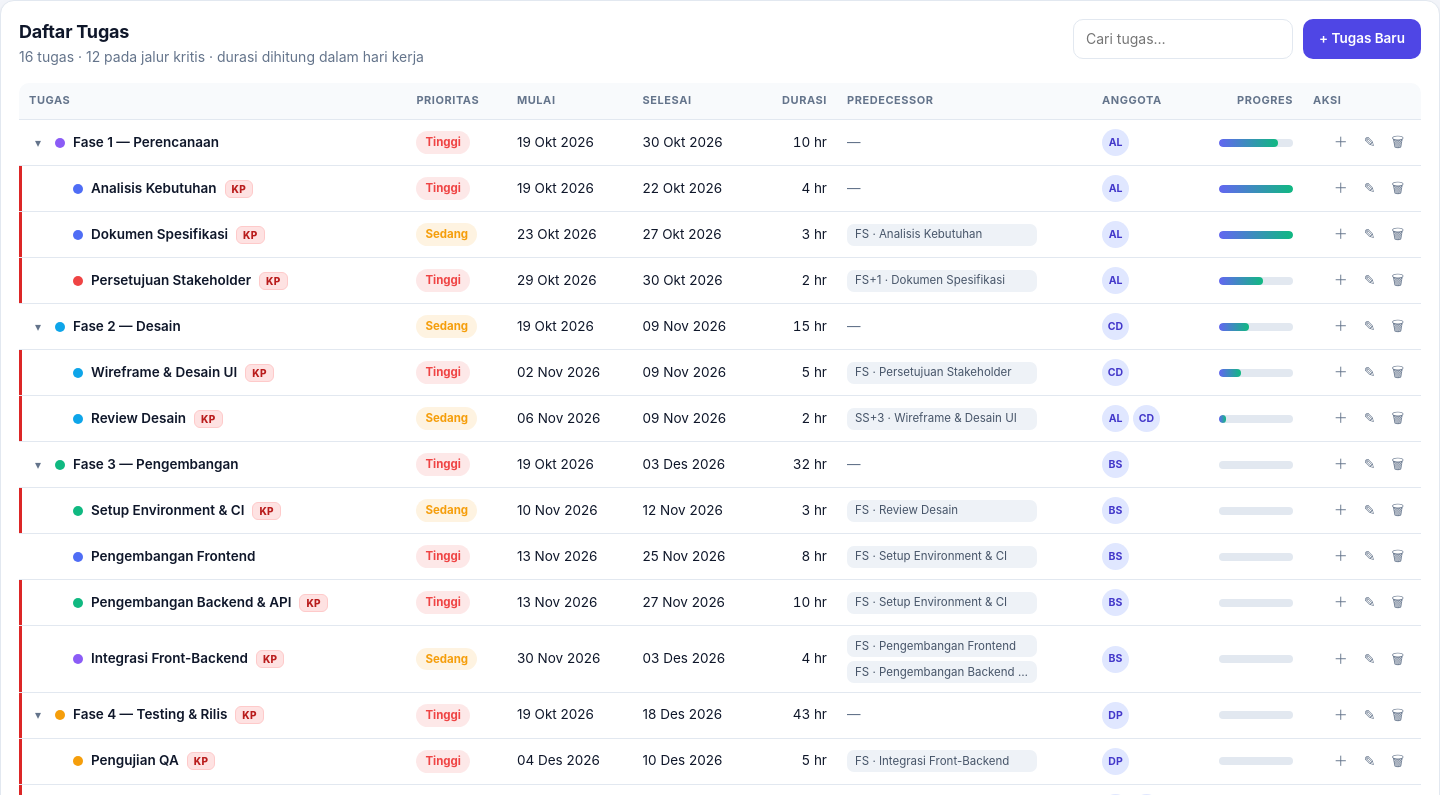
TaskList › menyaring tugas lewat pencarian
Type "Pengujian QA" into the search field labelled "Cari tugas" at (1183, 39), box [1073,19,1293,59]
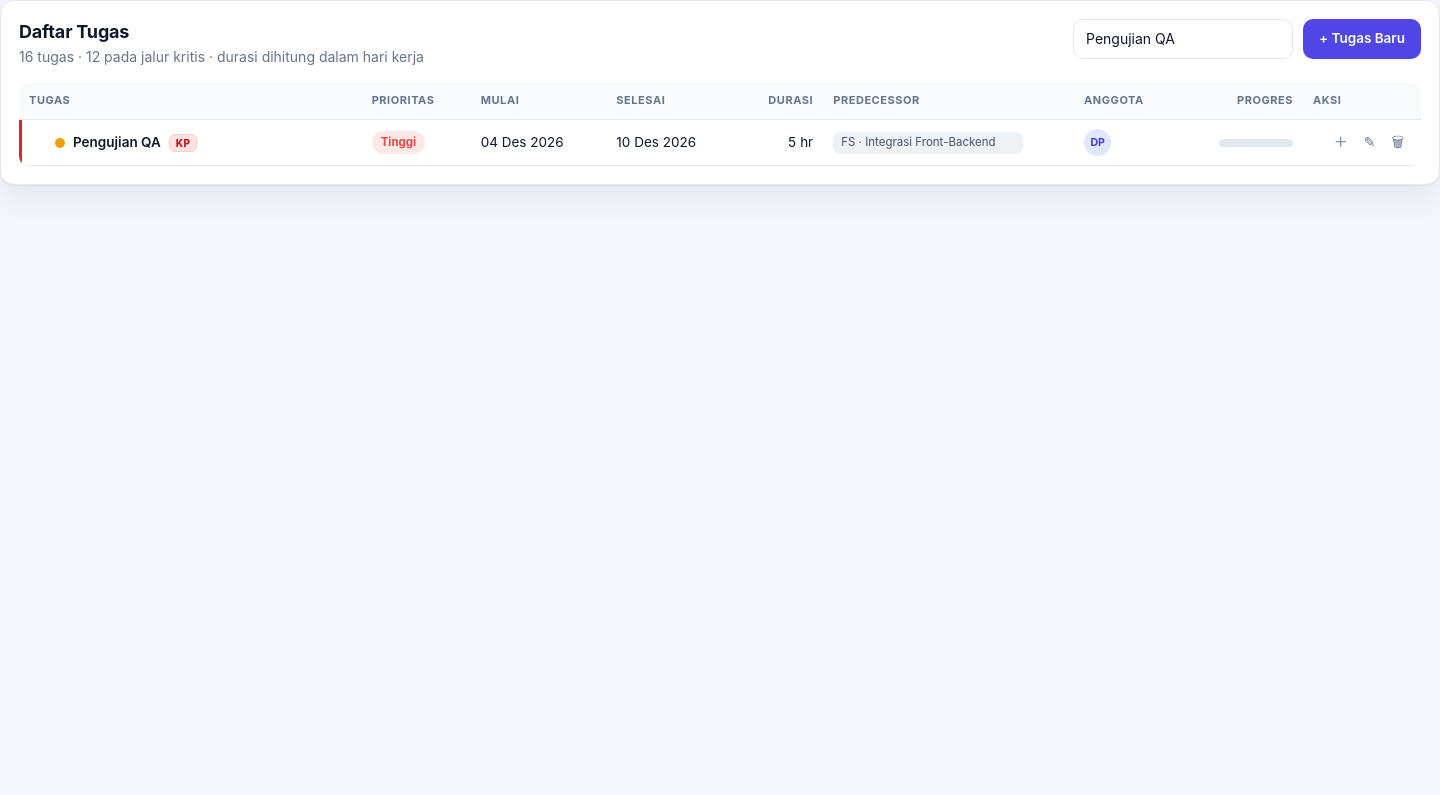
Expected: the text "Pengujian QA" is shown, [73,133,161,153]
Expected: the text "Wireframe & Desain UI" is gone
Replace the text in the search field named "Cari tugas" with "tidak-ada" at (1183, 39), box [1073,19,1293,59]
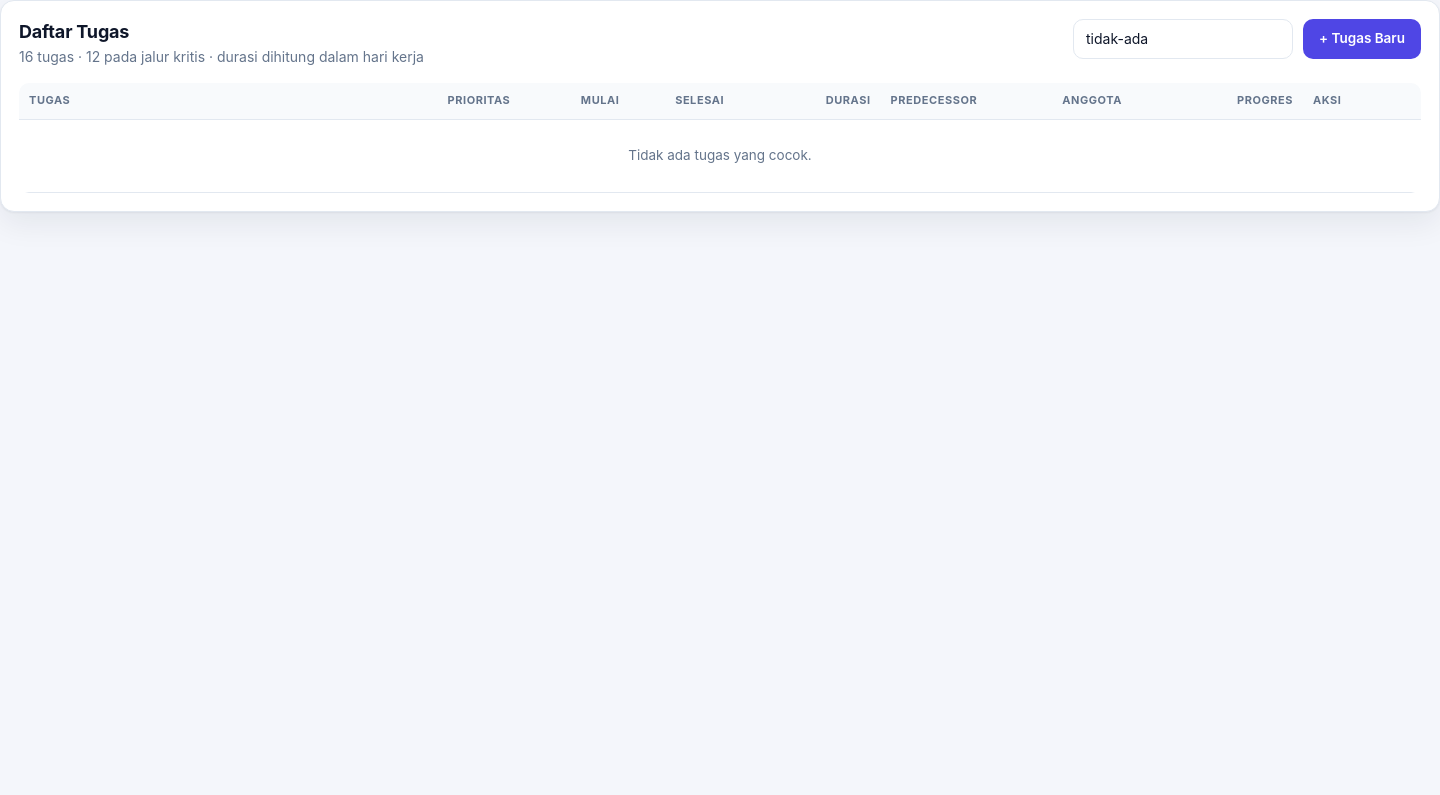
Expected: the text "Tidak ada tugas yang cocok." is shown, [19,120,1421,192]
